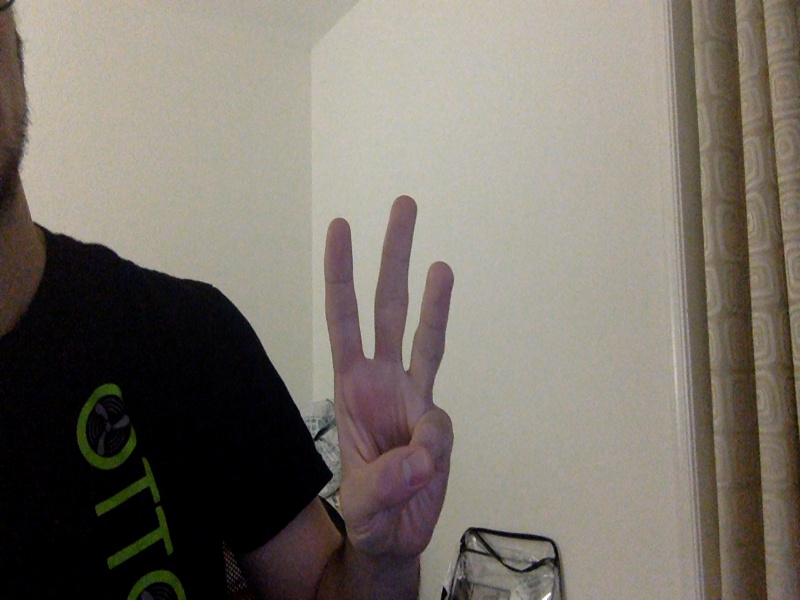3-hand: (323, 197, 454, 563)
